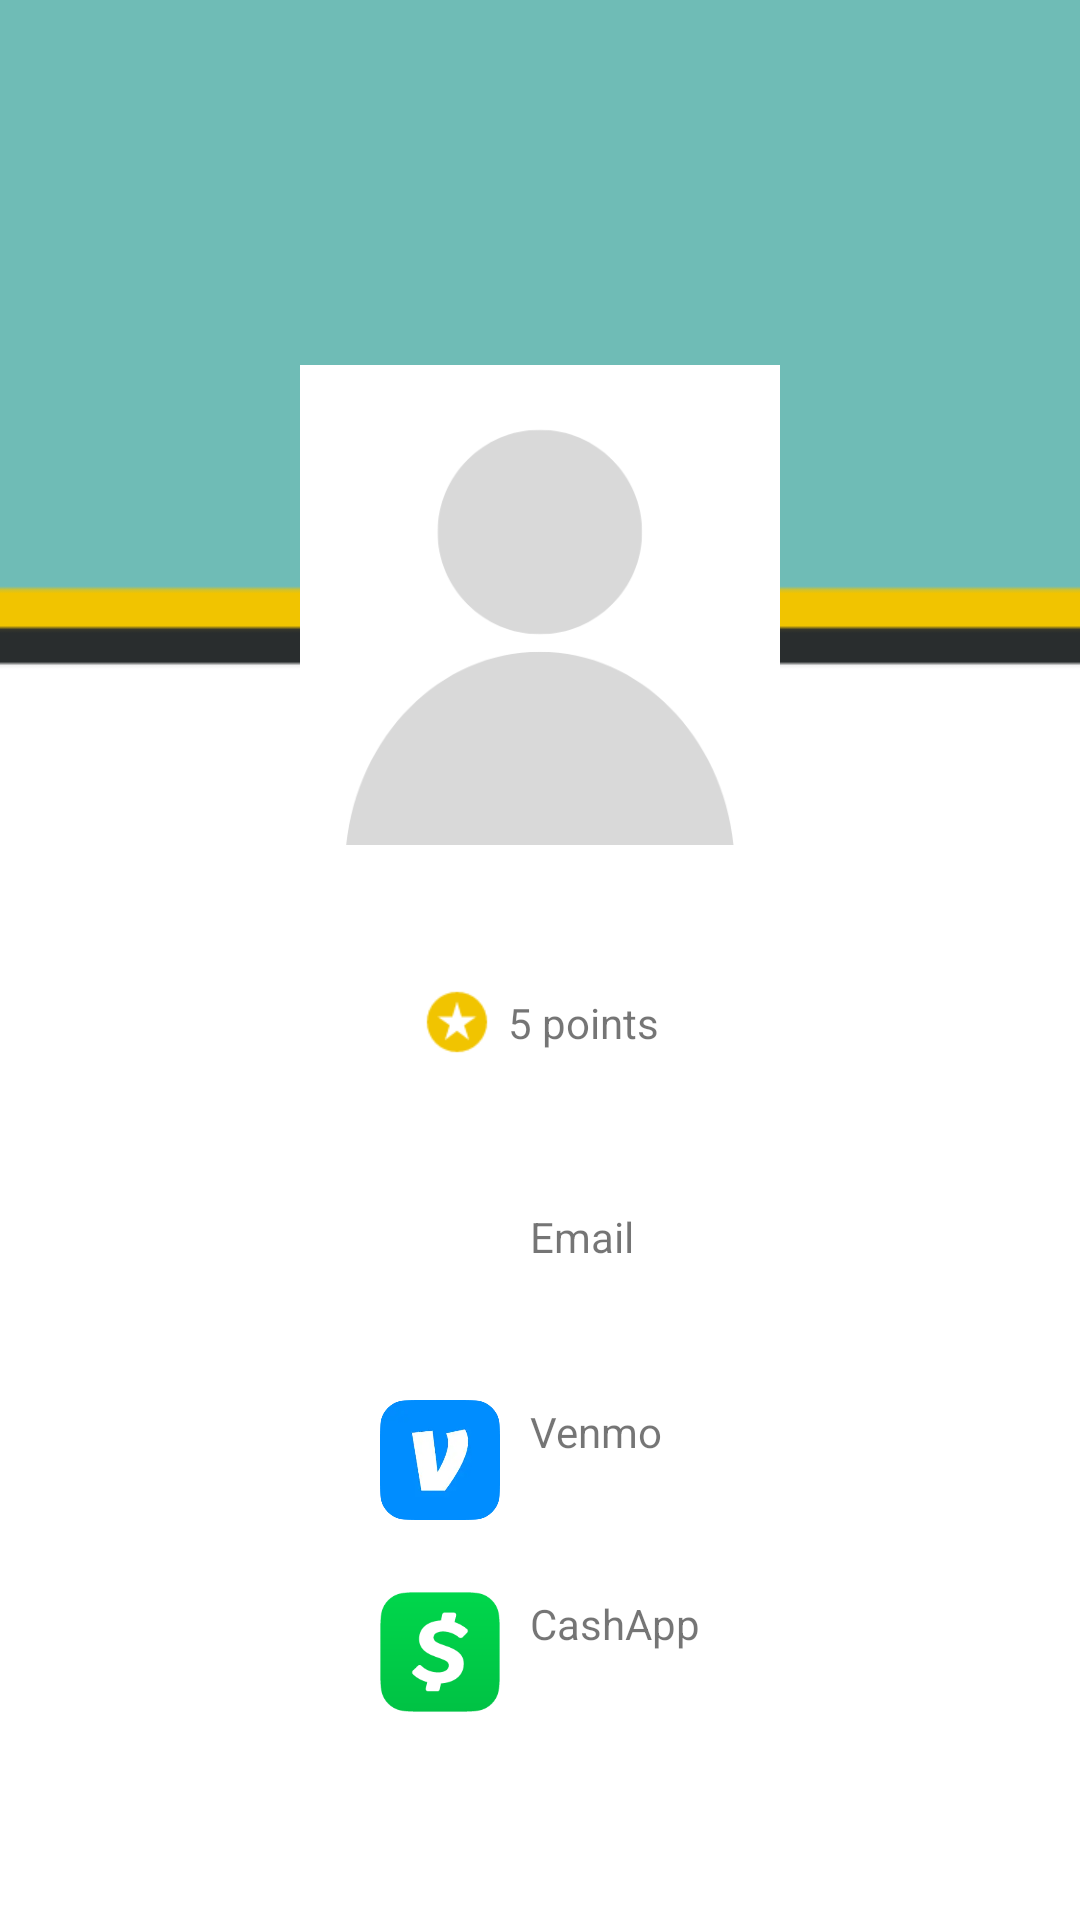

Point at icon controls on the screen. Image size 1080 x 1920, points as point (x, y).
star: point (457, 1022)
